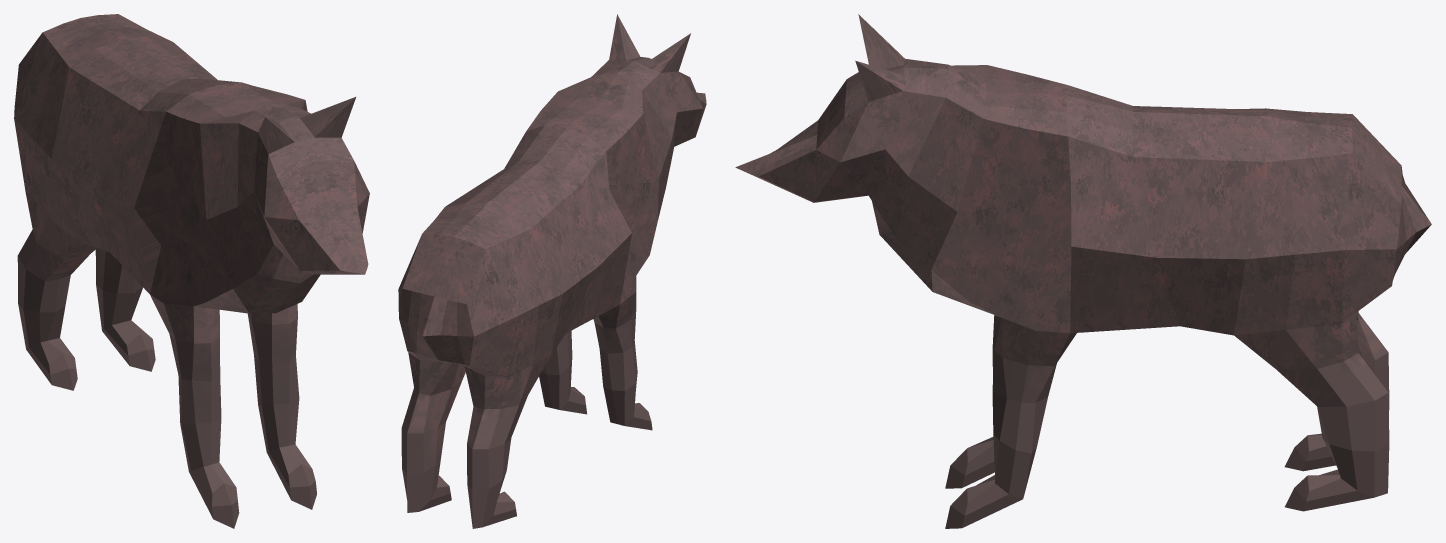
Rendered from piesblendtex_000003.obj.
The picture shows the model from 3 angles, left to right: view 1: azimuth 30°, elevation 25°; view 2: azimuth 150°, elevation 25°; view 3: azimuth 270°, elevation 25°; orthographic projection. The views are drawn at different scales.
Visible parts, largest first — view 1: Cube; view 2: Cube; view 3: Cube.
Part boxes in pixels (box(x1,y1,x2,y2)): Cube: box(14, 14, 369, 528); Cube: box(398, 14, 706, 528); Cube: box(735, 14, 1431, 528).
Size of the model in its own units: 2.56 by 6.83 by 9.19.
